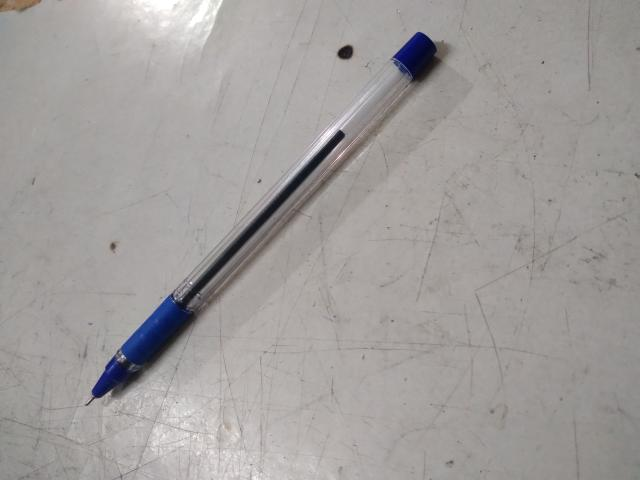PEN: (68, 79, 475, 466)
